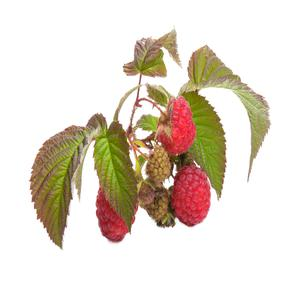raspb: (163, 93, 214, 230)
